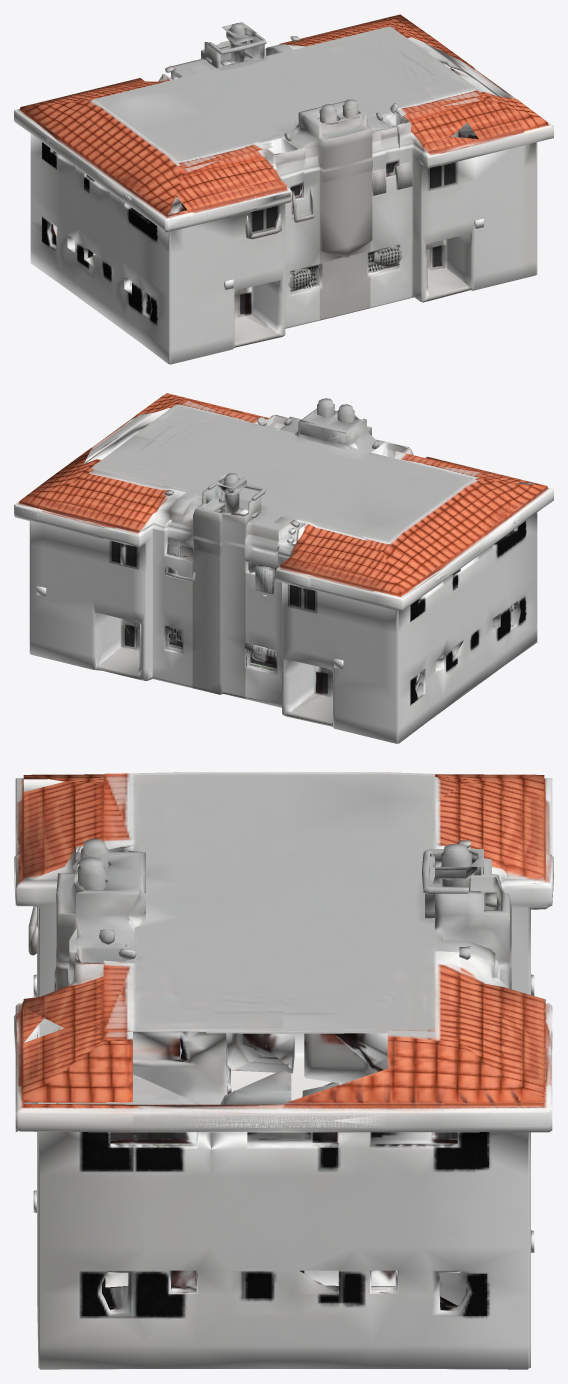
File: bld_556855837.glb
3 renders of one model, top to bottom at view 1: azimuth 30°, elevation 25°; view 2: azimuth 150°, elevation 25°; view 3: azimuth 270°, elevation 25°, orthographic. The views are drawn at different scales.
Size of the model in its own units: 1.91 by 0.9746 by 1.3.
1 material, 1 textured.
